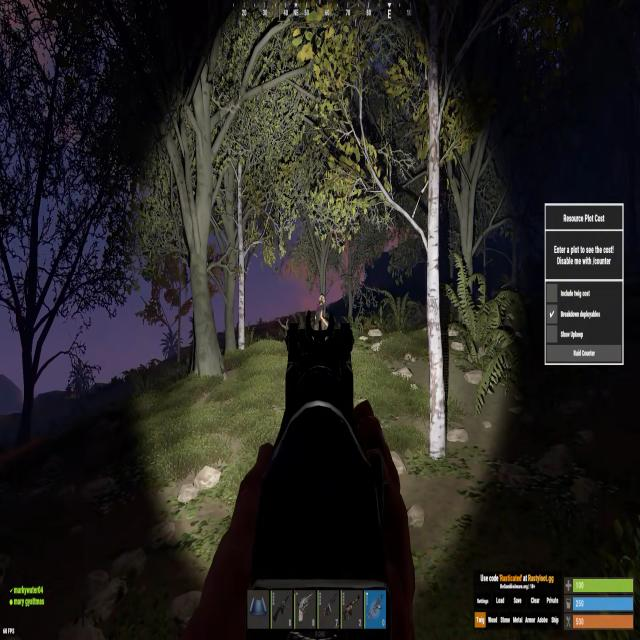Player: (315, 295, 329, 330)
